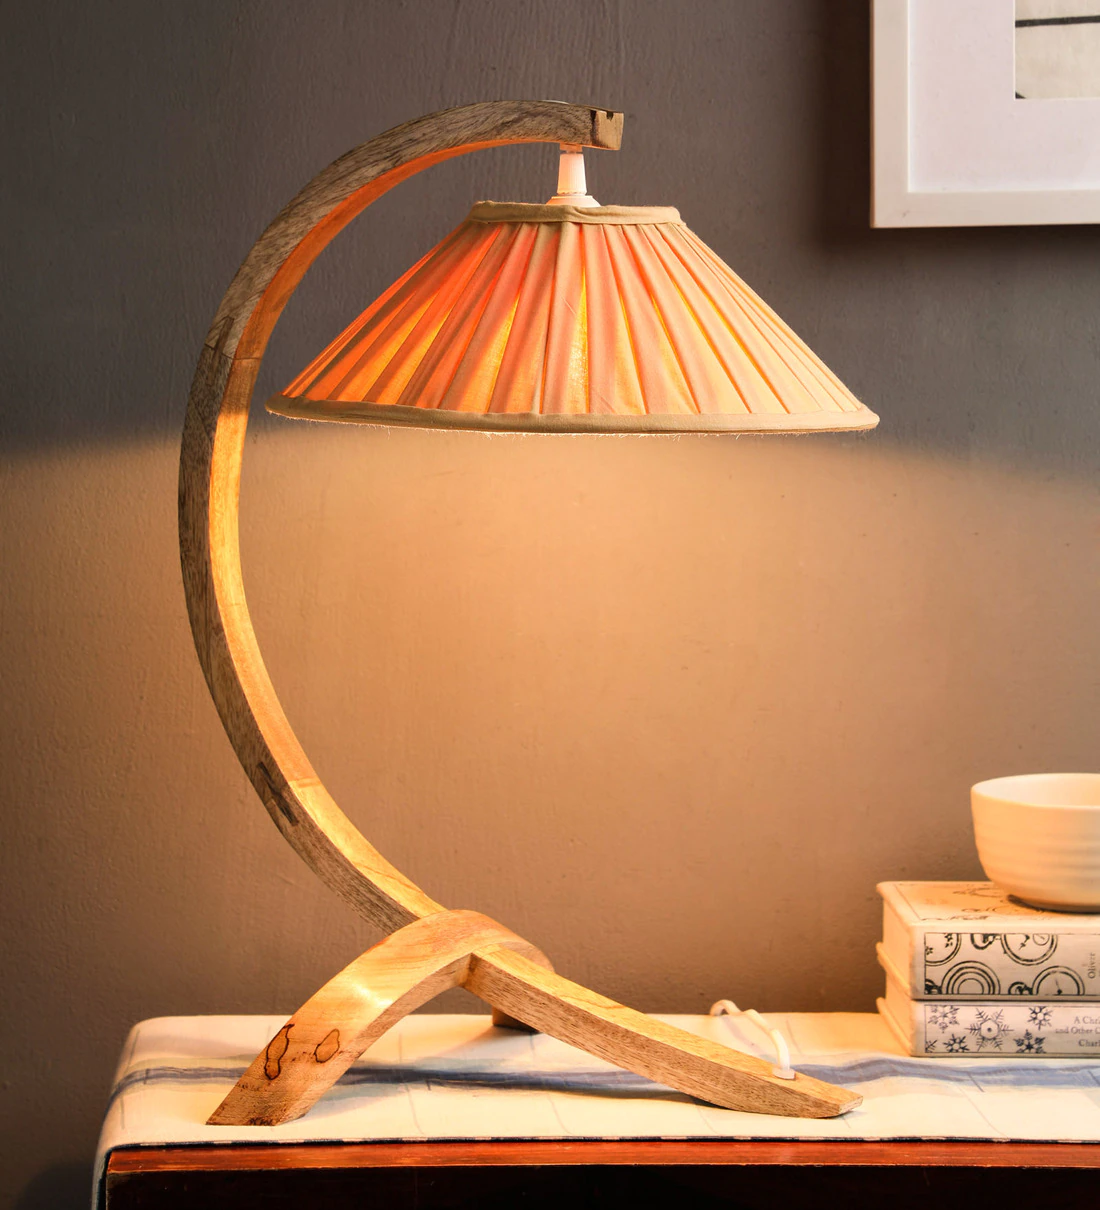buku: (867, 880, 1100, 1067)
gelas: (968, 764, 1100, 911)
lampu: (208, 95, 852, 1109)
lukisan: (864, 1, 1097, 228)
